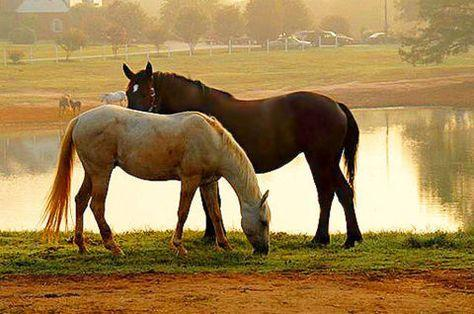horse: (121, 58, 362, 249), (38, 103, 271, 258)
